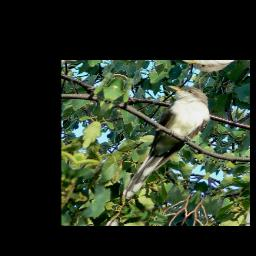Cuckoo: (111, 79, 223, 210)
